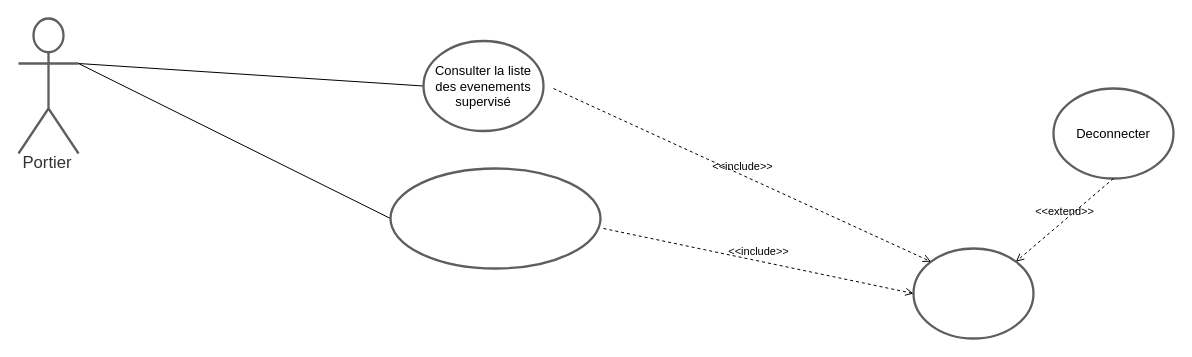
Some shapes in this 1192 by 357 pixel diagram are drawn without their labels. Each missing label, with the centre of its shape:
S'authentifier: (x=973, y=293)
Verfier les reservations des clients avec Qr reader: (x=495, y=218)
